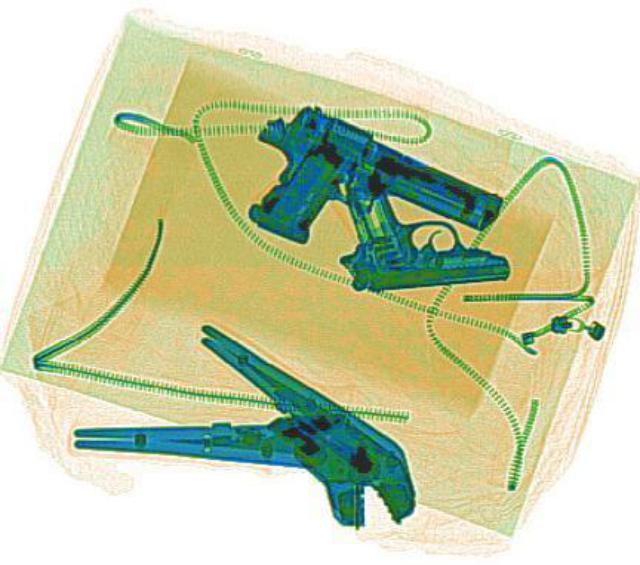Gun: (206, 94, 508, 305), (339, 169, 506, 292)
